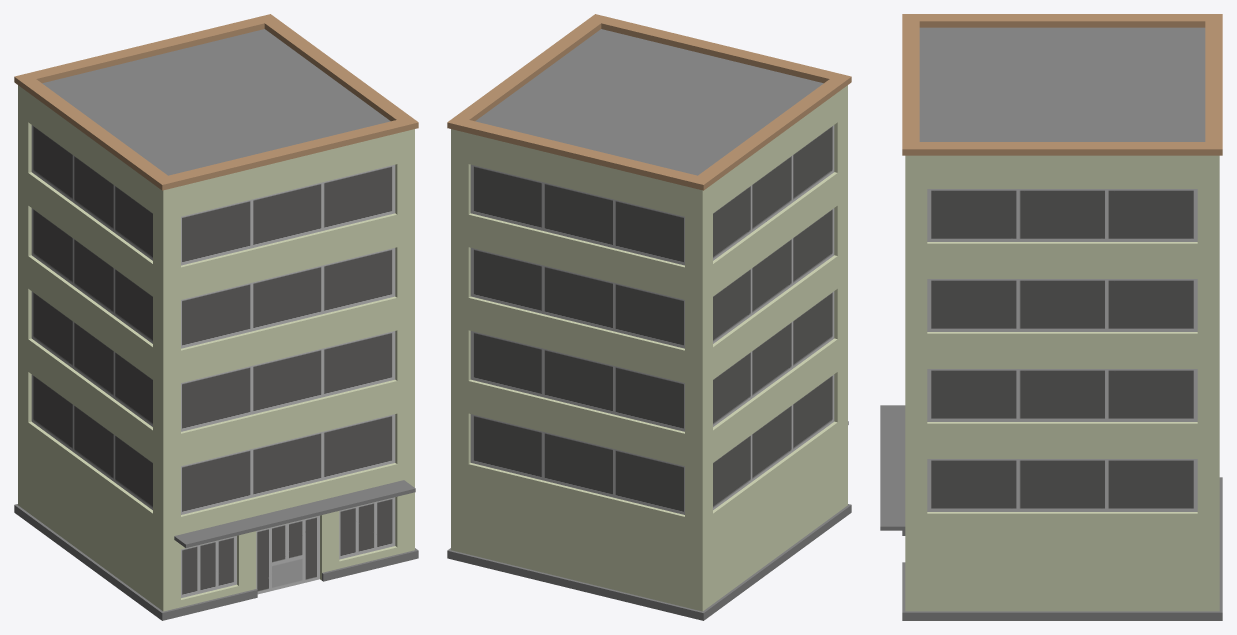
Rendered from demo_scene.unity_1.obj.
The picture shows the model from 3 angles, left to right: view 1: azimuth 30°, elevation 25°; view 2: azimuth 150°, elevation 25°; view 3: azimuth 270°, elevation 25°; orthographic projection. The views are drawn at different scales.
Parts seen in each view (by area): view 1: scp_building_13; view 2: scp_building_13; view 3: scp_building_13.
Part boxes in pixels (x1,y1,x2,y2): scp_building_13: (14,14,418,620); scp_building_13: (447,14,851,620); scp_building_13: (880,14,1222,620).
Bounding box in the file's own units: 11.65 × 18.91 × 12.45.
1 material, 1 textured.
